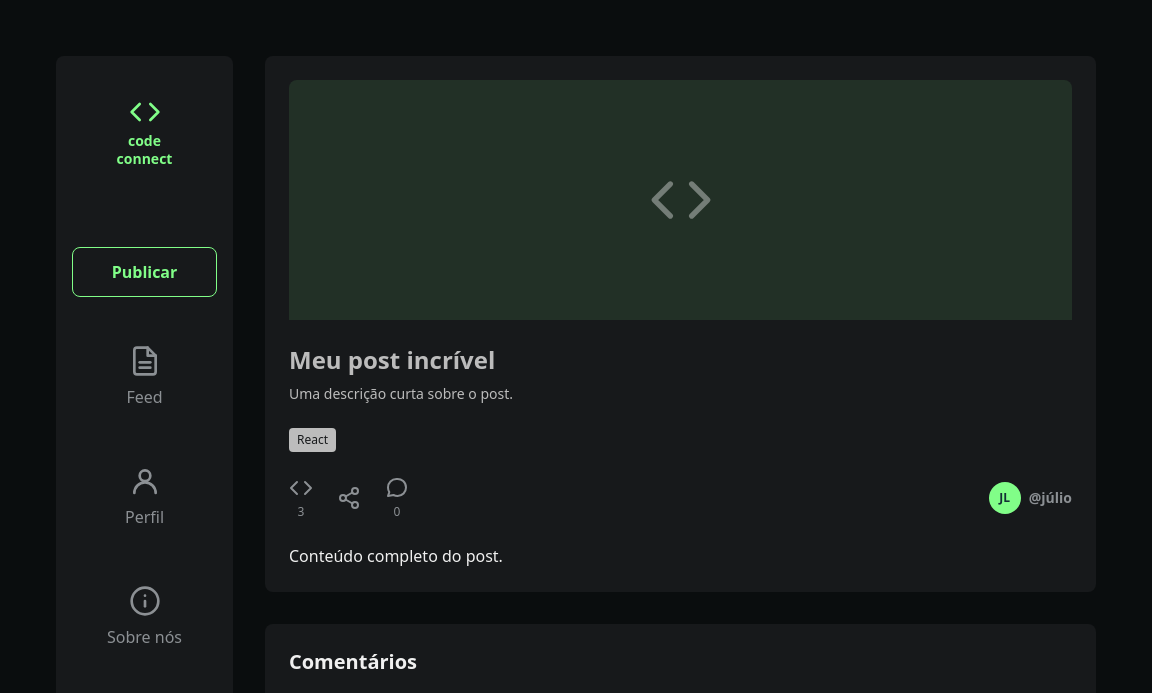
Test: PostDetailPage › toggles the like state for authenticated users
The image size is (1152, 693).
Expected: the heading "Meu post incrível" is shown, [289,343,495,376]
Click the button named "Curtir post": (301, 498) [289,476,313,520]
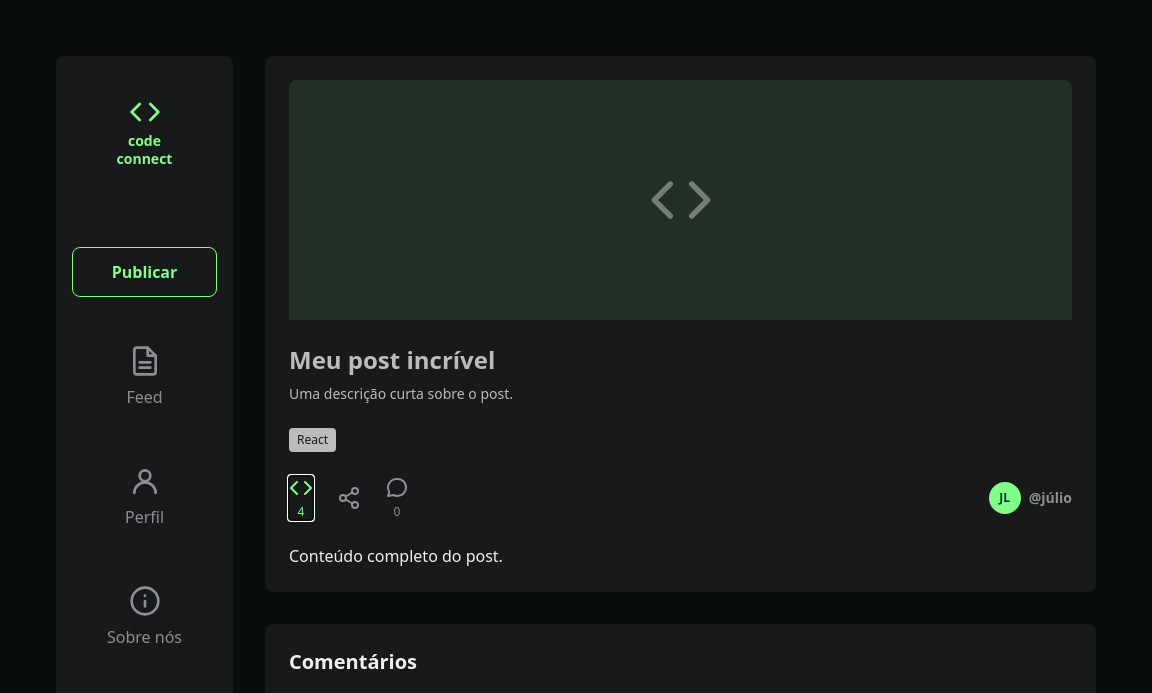
Expected: the button "4" is shown, [289,476,313,520]
